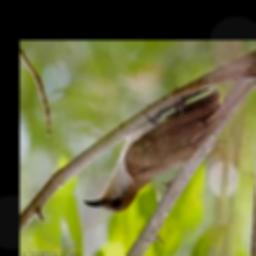Cuckoo: (79, 87, 220, 213)
